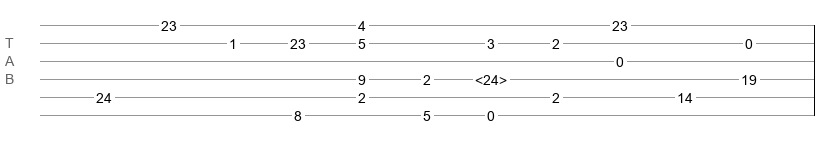0: (487, 108, 495, 118), (616, 54, 624, 64), (745, 36, 753, 46)
1: (229, 36, 237, 46)
14: (677, 90, 693, 100)
19: (741, 72, 757, 82)
2: (358, 90, 366, 100), (423, 72, 431, 82), (552, 90, 560, 100), (552, 36, 560, 46)
23: (161, 18, 177, 28), (290, 36, 306, 46), (612, 18, 628, 28)
24: (96, 90, 112, 100)
3: (487, 36, 495, 46)
4: (358, 18, 366, 28)
5: (358, 36, 366, 46), (423, 108, 431, 118)
8: (294, 108, 302, 118)
9: (358, 72, 366, 82)
harmonic: (475, 72, 507, 82)
